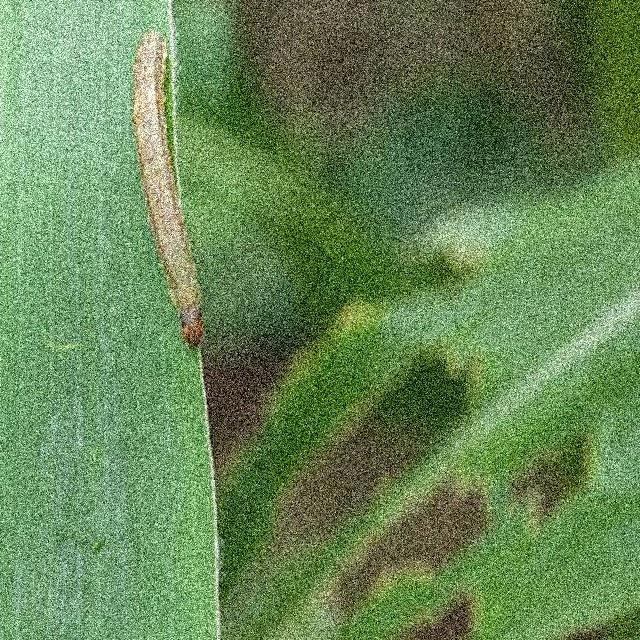gusano_cogollero: (138, 27, 205, 344)
